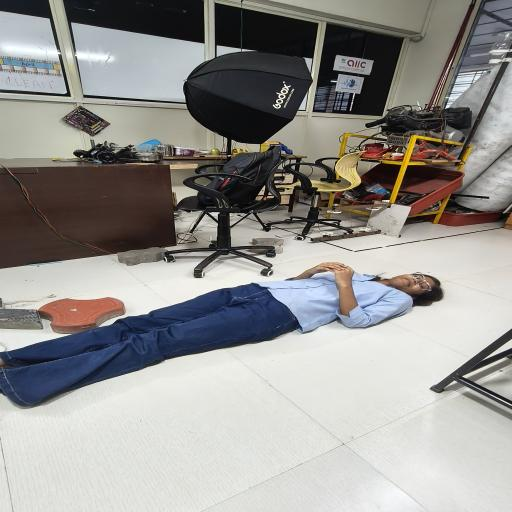survivor: (0, 261, 446, 408)
